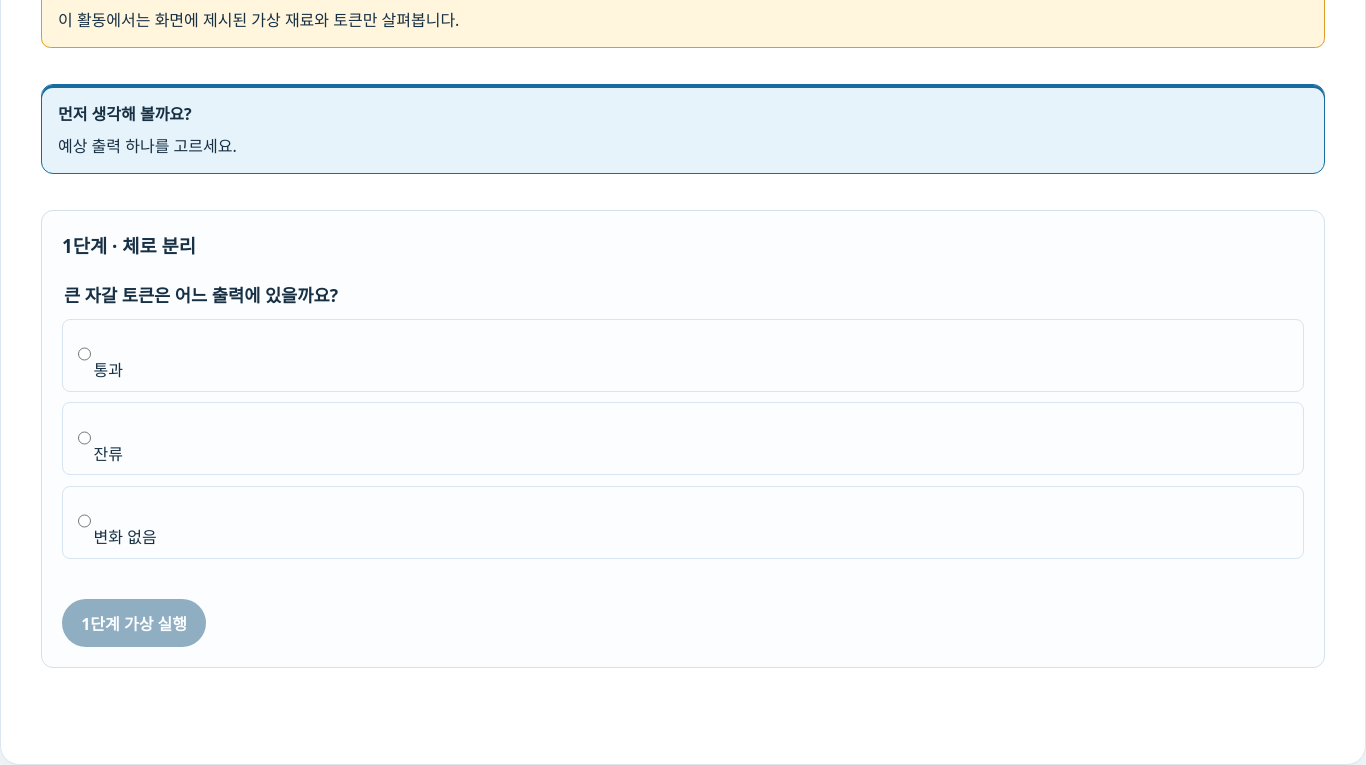
Test: SimulationScreen › requires an output prediction before the current step can run
(page scrolled)
expect the button "1단계 가상 실행" is disabled: met, box [62,599,206,647]
Click the radio button labelled "잔류": coordinates (84, 438) [78,416,91,460]
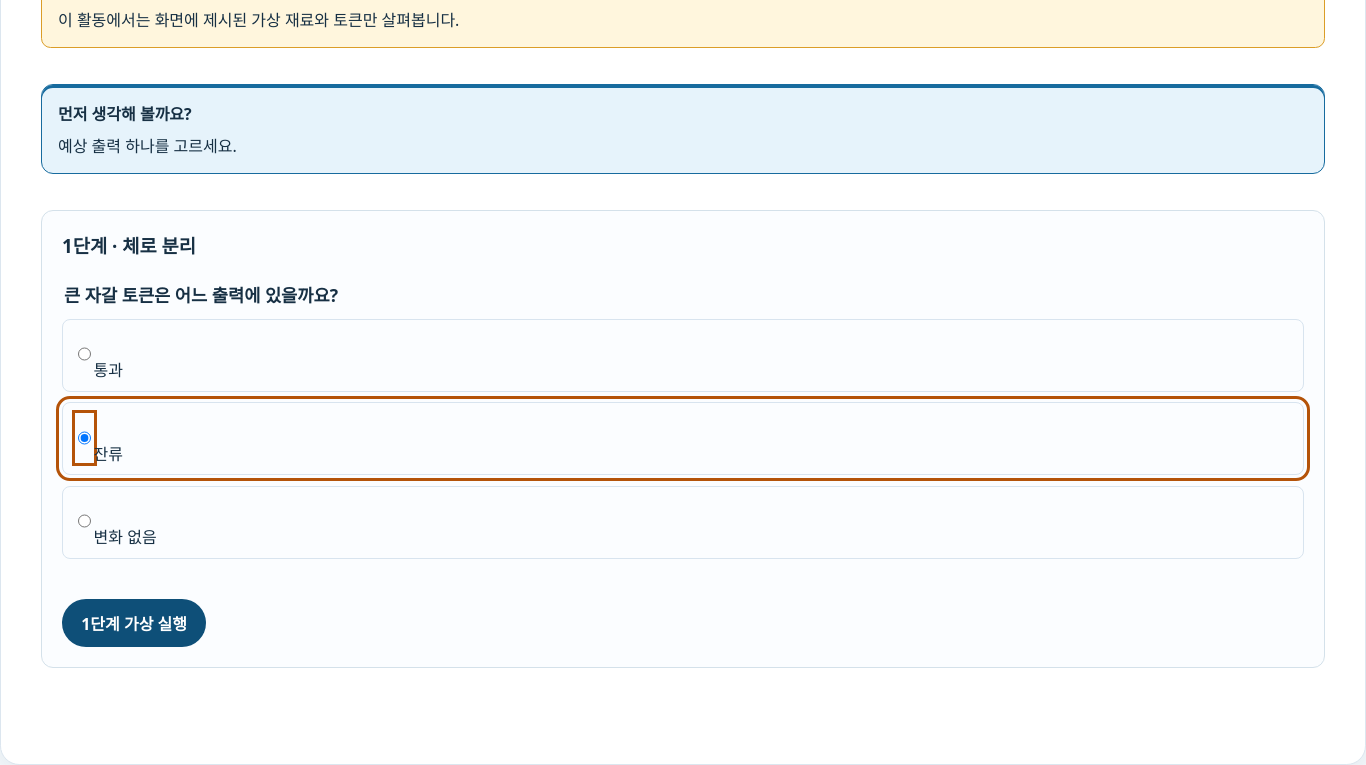
expect the number of buttons is 1: met, box [62,599,206,647]
expect the button "1단계 가상 실행" is enabled: met, box [62,599,206,647]
